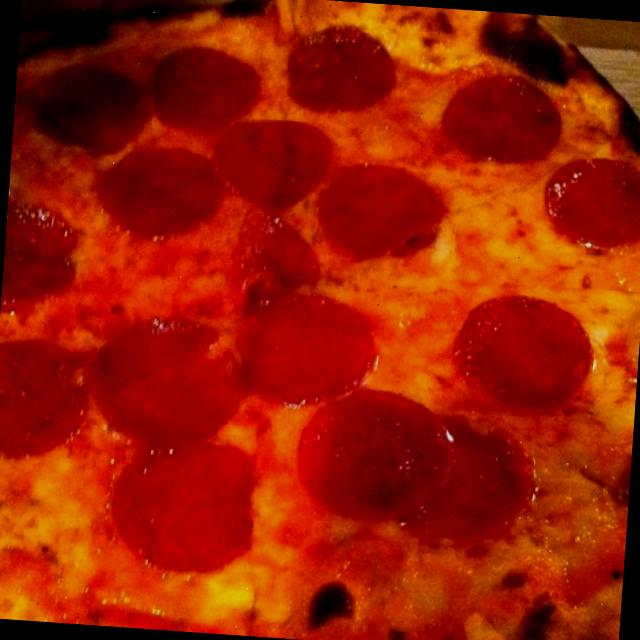pepperoni: (298, 382, 455, 530), (111, 434, 259, 578), (92, 314, 250, 448), (388, 408, 537, 550), (232, 282, 383, 414), (454, 291, 597, 417), (311, 156, 460, 268), (0, 335, 105, 466), (19, 58, 155, 157), (95, 144, 232, 240), (436, 69, 564, 168), (216, 116, 334, 220), (144, 41, 266, 132), (535, 151, 640, 256), (280, 22, 400, 113), (226, 205, 330, 308), (0, 198, 81, 323)
pizza: (0, 0, 640, 640)
